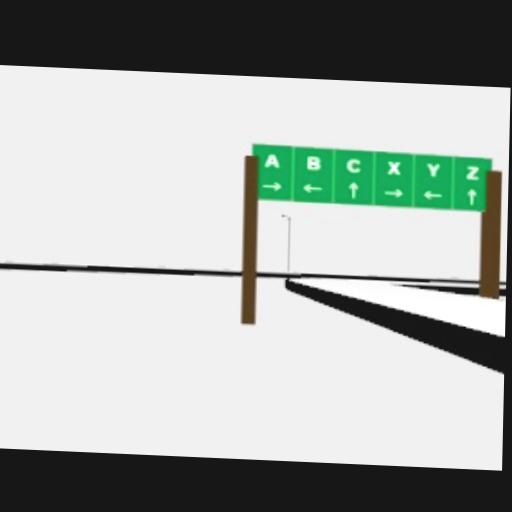A: (263, 150, 280, 166)
B: (305, 154, 320, 168)
C: (344, 156, 361, 172)
Left: (301, 182, 323, 193), (422, 188, 442, 199)
Right: (261, 180, 281, 191), (383, 186, 405, 195)
Straight: (347, 179, 357, 199), (466, 186, 476, 204)
X: (387, 159, 401, 174)
Y: (426, 161, 440, 176)
Z: (465, 163, 480, 179)
